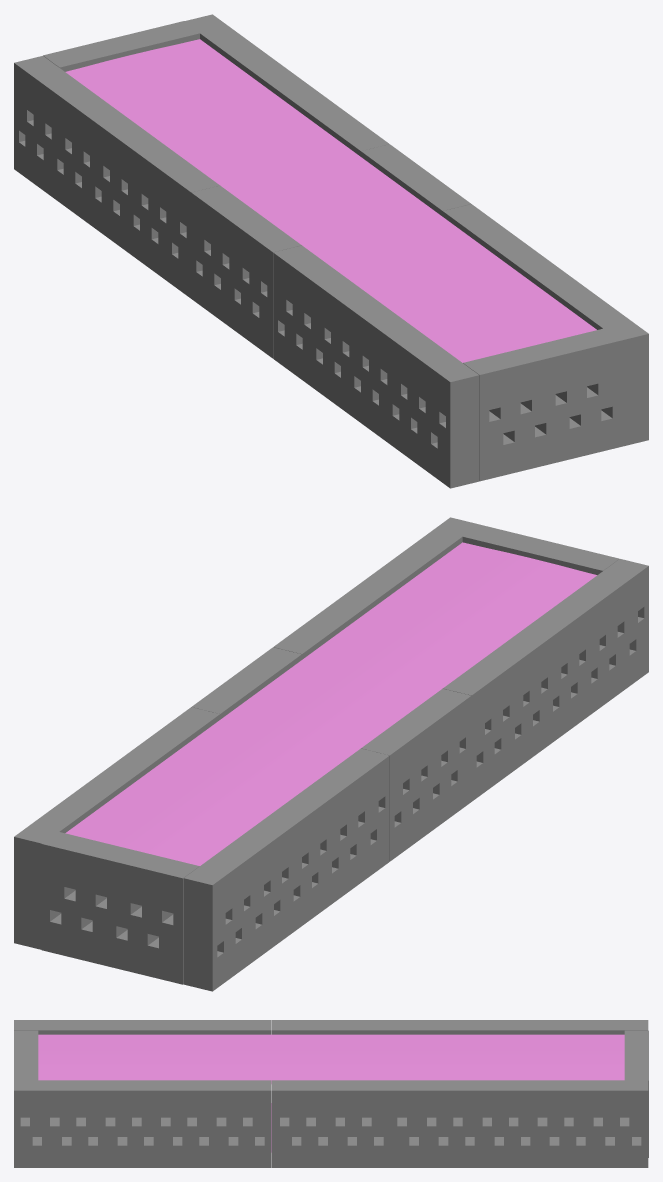
The model's file is passerelle01.fbx.
3 views of the same model, one above another, from view 1: azimuth 30°, elevation 25°; view 2: azimuth 150°, elevation 25°; view 3: azimuth 270°, elevation 25° (orthographic). The views are drawn at different scales.
Visible parts, largest first — view 1: passerelle01; view 2: passerelle01; view 3: passerelle01.
Boxes of the visible parts, box(x1,y1,x2,y2) form: passerelle01: box(14, 14, 648, 488); passerelle01: box(14, 517, 648, 991); passerelle01: box(14, 1020, 648, 1167).
Size of the model in its own units: 1.91 by 0.9755 by 7.26.
